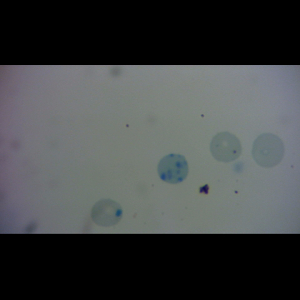aggregate reticulocyte: (155, 152, 190, 185)
erythrocyte: (250, 131, 286, 169), (90, 198, 124, 228)
punctate reticulocyte: (209, 130, 243, 164)
